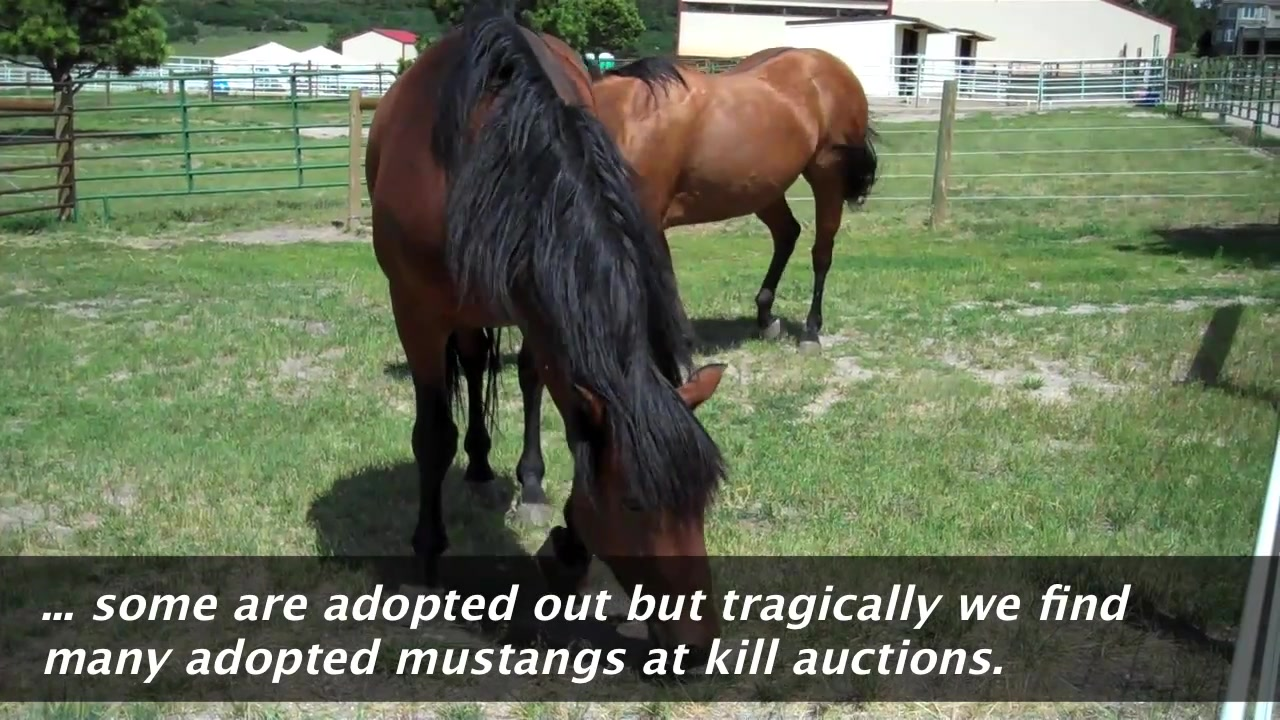horse: (367, 22, 730, 674), (589, 50, 882, 341)
